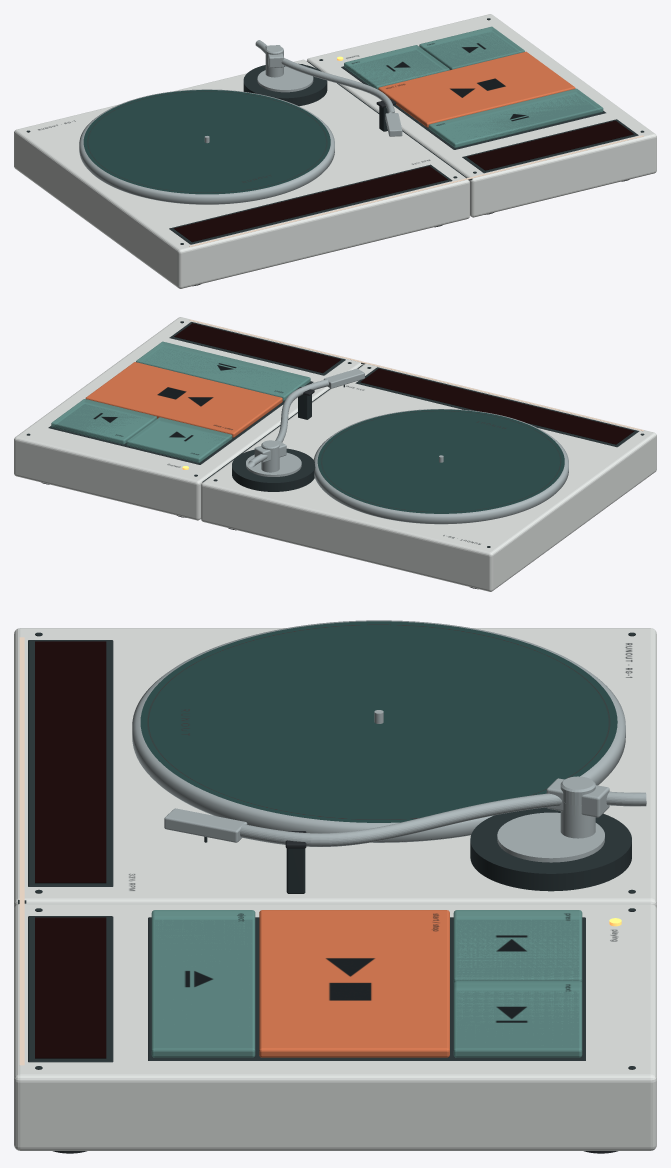
File: turntable_white_teal.glb
3 views of the same model, one above another, from view 1: azimuth 30°, elevation 25°; view 2: azimuth 150°, elevation 25°; view 3: azimuth 270°, elevation 25° (orthographic). The views are drawn at different scales.
Parts seen in each view (by area): view 1: Chassis_Main, Turntable_Platter, Screen_Glass, Key_StartStop, Chassis_Trim, Key_Eject, Screen_Display, Tonearm_Base, Screen_Time, Key_Prev, Key_Next, Tonearm_Arm (+1 smaller); view 2: Chassis_Main, Turntable_Platter, Screen_Glass, Key_StartStop, Screen_Display, Key_Eject, Chassis_Trim, Tonearm_Base, Key_Prev, Key_Next, Screen_Time, Tonearm_Arm (+1 smaller); view 3: Chassis_Main, Turntable_Platter, Chassis_Trim, Key_StartStop, Screen_Glass, Screen_Display, Key_Eject, Tonearm_Base, Key_Next, Screen_Time, Key_Prev, Tonearm_Arm (+1 smaller).
Boxes of the visible parts, bbox=[...] form: Chassis_Main: bbox=[14, 14, 656, 288]; Turntable_Platter: bbox=[79, 89, 334, 204]; Screen_Glass: bbox=[174, 120, 633, 241]; Key_StartStop: bbox=[378, 51, 575, 127]; Chassis_Trim: bbox=[26, 18, 644, 244]; Key_Eject: bbox=[428, 88, 603, 147]; Screen_Display: bbox=[175, 167, 447, 242]; Tonearm_Base: bbox=[243, 57, 396, 131]; Screen_Time: bbox=[468, 121, 633, 170]; Key_Prev: bbox=[344, 45, 449, 89]; Key_Next: bbox=[419, 26, 524, 69]; Tonearm_Arm: bbox=[255, 40, 402, 136]; Chassis_Main: bbox=[14, 317, 656, 591]; Turntable_Platter: bbox=[313, 409, 568, 524]; Screen_Glass: bbox=[174, 323, 634, 444]; Key_StartStop: bbox=[85, 362, 282, 437]; Screen_Display: bbox=[360, 369, 633, 444]; Key_Eject: bbox=[136, 341, 310, 400]; Chassis_Trim: bbox=[26, 321, 644, 547]; Tonearm_Base: bbox=[232, 387, 315, 491]; Key_Prev: bbox=[126, 417, 232, 462]; Key_Next: bbox=[51, 399, 156, 444]; Screen_Time: bbox=[175, 324, 340, 373]; Tonearm_Arm: bbox=[248, 368, 364, 467]; Chassis_Main: bbox=[14, 628, 656, 1150]; Turntable_Platter: bbox=[132, 620, 625, 842]; Chassis_Trim: bbox=[18, 632, 635, 1069]; Key_StartStop: bbox=[259, 910, 449, 1057]; Screen_Glass: bbox=[35, 641, 106, 1058]; Screen_Display: bbox=[35, 642, 105, 883]; Key_Eject: bbox=[151, 910, 255, 1057]; Tonearm_Base: bbox=[285, 802, 631, 893]; Key_Next: bbox=[453, 981, 582, 1057]; Screen_Time: bbox=[35, 919, 105, 1058]; Key_Prev: bbox=[453, 910, 582, 983]; Tonearm_Arm: bbox=[164, 776, 646, 846].
Size of what is drawn, in the model's own units: 5.14 by 0.843 by 3.1.
Materials: 12 (3 with a texture image).
